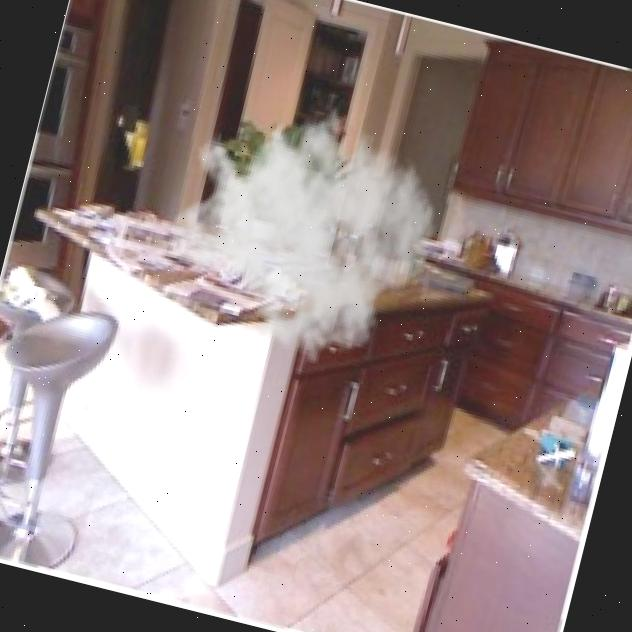smoke: (142, 60, 463, 387)
